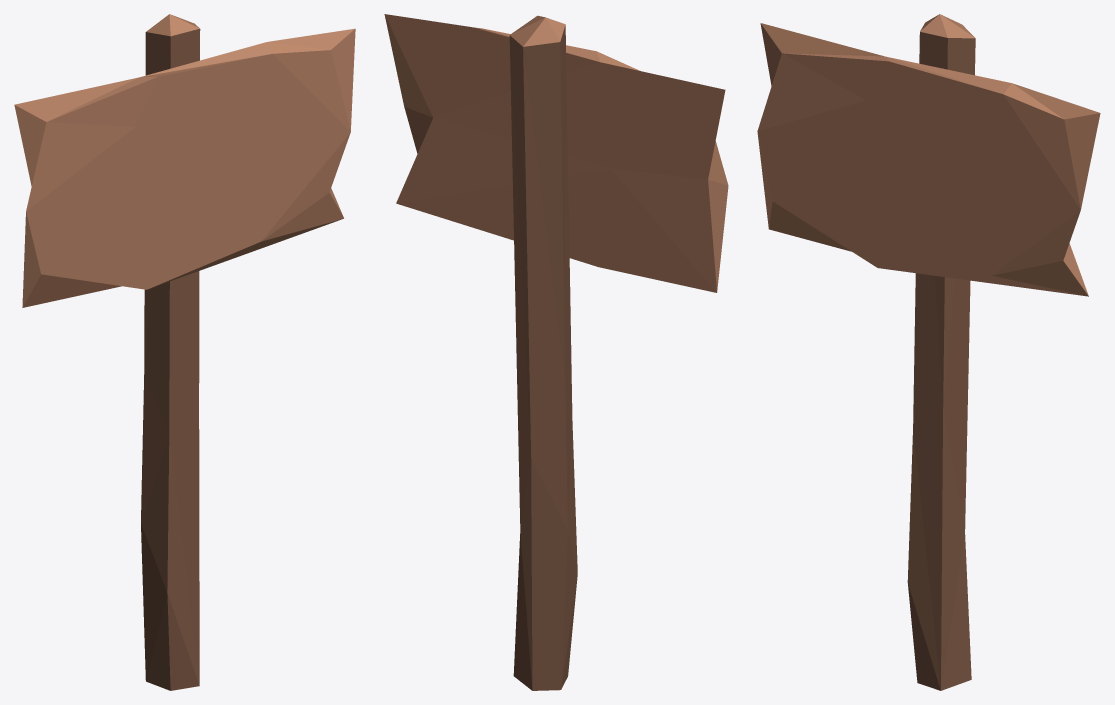
The model's file is sign.glb.
3 renders of one model, left to right at view 1: azimuth 30°, elevation 25°; view 2: azimuth 150°, elevation 25°; view 3: azimuth 330°, elevation 25°, orthographic.
Parts seen in each view (by area): view 1: Pointer; view 2: Pointer; view 3: Pointer.
Part boxes in pixels (left/top/right/bottom): Pointer: left=14, top=14, right=355, bottom=690; Pointer: left=384, top=14, right=728, bottom=690; Pointer: left=757, top=14, right=1100, bottom=690.
Size of the model in its own units: 2.23 by 4.15 by 0.397.
